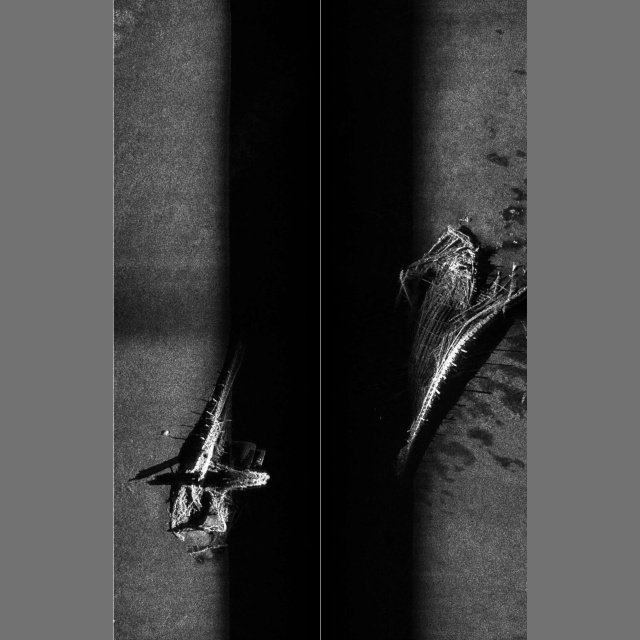Shipwreck: (162, 215, 527, 562)
